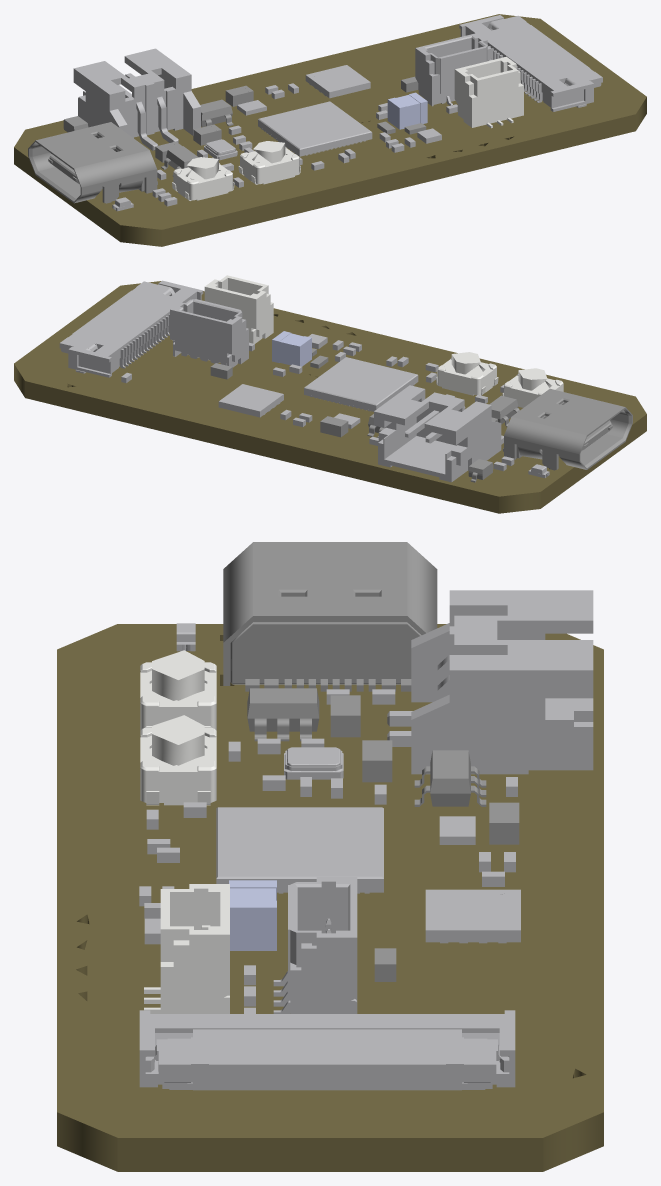
Rendered from ada-6000.glb.
The picture shows the model from 3 angles, top to bottom: view 1: azimuth 30°, elevation 25°; view 2: azimuth 150°, elevation 25°; view 3: azimuth 270°, elevation 25°; orthographic projection. The views are drawn at different scales.
Visible parts, largest first — view 1: 0.16666666666666666_0.16666666666666666_0.08333333333333333_, 0.5833333333333334_0.5833333333333334_0.5833333333333334_0.8, 0.3333333333333333_0.3333333333333333_0.3333333333333333_0, 0.9166666666666666_0.9166666666666666_0.9166666666666666_0.8, 0.5833333333333334_0.6666666666666666_0.8333333333333334_0; view 2: 0.16666666666666666_0.16666666666666666_0.08333333333333333_, 0.5833333333333334_0.5833333333333334_0.5833333333333334_0.8, 0.3333333333333333_0.3333333333333333_0.3333333333333333_0, 0.9166666666666666_0.9166666666666666_0.9166666666666666_0.8, 0.5833333333333334_0.6666666666666666_0.8333333333333334_0; view 3: 0.16666666666666666_0.16666666666666666_0.08333333333333333_, 0.5833333333333334_0.5833333333333334_0.5833333333333334_0.8, 0.3333333333333333_0.3333333333333333_0.3333333333333333_0, 0.9166666666666666_0.9166666666666666_0.9166666666666666_0.8, 0.5833333333333334_0.6666666666666666_0.8333333333333334_0.
Part boxes in pixels (x1=…): 0.16666666666666666_0.16666666666666666_0.08333333333333333_: x1=14, y1=14, x2=646, y2=246; 0.5833333333333334_0.5833333333333334_0.5833333333333334_0.8: x1=50, y1=15, x2=602, y2=211; 0.3333333333333333_0.3333333333333333_0.3333333333333333_0: x1=28, y1=76, x2=426, y2=203; 0.9166666666666666_0.9166666666666666_0.9166666666666666_0.8: x1=172, y1=56, x2=523, y2=200; 0.5833333333333334_0.6666666666666666_0.8333333333333334_0: x1=387, y1=92, x2=427, y2=129; 0.16666666666666666_0.16666666666666666_0.08333333333333333_: x1=14, y1=281, x2=646, y2=513; 0.5833333333333334_0.5833333333333334_0.5833333333333334_0.8: x1=59, y1=280, x2=610, y2=482; 0.3333333333333333_0.3333333333333333_0.3333333333333333_0: x1=210, y1=348, x2=632, y2=482; 0.9166666666666666_0.9166666666666666_0.9166666666666666_0.8: x1=204, y1=275, x2=563, y2=407; 0.5833333333333334_0.6666666666666666_0.8333333333333334_0: x1=272, y1=331, x2=311, y2=366; 0.16666666666666666_0.16666666666666666_0.08333333333333333_: x1=57, y1=624, x2=603, y2=1171; 0.5833333333333334_0.5833333333333334_0.5833333333333334_0.8: x1=139, y1=590, x2=593, y2=1090; 0.3333333333333333_0.3333333333333333_0.3333333333333333_0: x1=223, y1=542, x2=519, y2=981; 0.9166666666666666_0.9166666666666666_0.9166666666666666_0.8: x1=140, y1=650, x2=229, y2=1013; 0.5833333333333334_0.6666666666666666_0.8333333333333334_0: x1=229, y1=880, x2=276, y2=950.
Size of the model in its own units: 5.2 by 0.6368 by 2.29.
